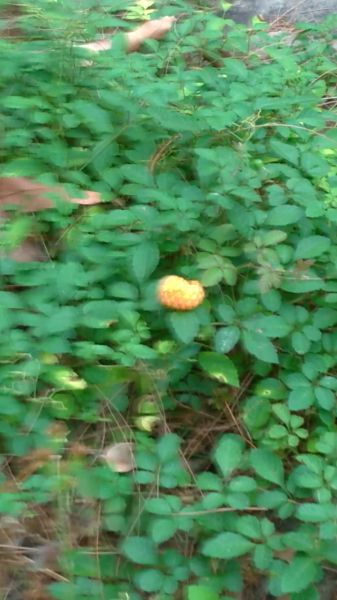eggs: (150, 271, 212, 312)
